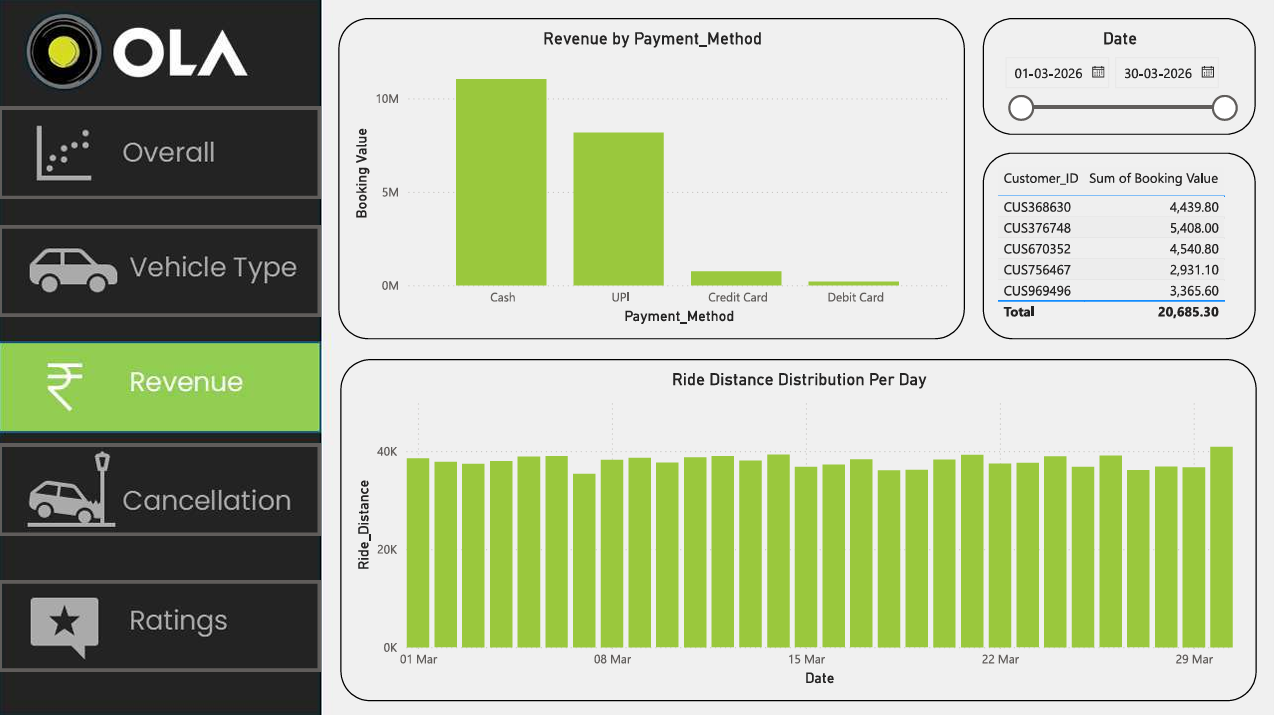

The dashboard page shown, as its layout file describes it:
{"tool":"powerbi","page":{"name":"Revenue","canvas":[1280,720],"ordinal":2},"visuals":[{"type":"actionButton","box":[0,225.6,323.3,91.7],"z":0},{"type":"actionButton","box":[0,445.2,323.3,91.7],"z":1000},{"type":"actionButton","box":[0,107.4,323.3,91.7],"z":2000},{"type":"actionButton","box":[0,581.5,323.3,91.7],"z":3000},{"type":"columnChart","title":"Revenue by Payment_Method","fields":{"Y":["Thane Ride Data.Adjusted Booking Value"],"Category":["Thane Ride Data.Payment_Method"]},"box":[341.2,17.8,629,321.9],"z":4000},{"type":"columnChart","title":"Ride Distance Distribution Per Day","fields":{"Y":["Sum(Thane Ride Data.Ride_Distance)"],"Category":["Thane Ride Data.Date"]},"box":[342.9,360,920,342.9],"z":5000},{"type":"slicer","title":"Date","fields":{"Values":["Thane Ride Data.Date"]},"box":[988,17.8,274.5,117.2],"z":6000},{"type":"tableEx","fields":{"Values":["Thane Ride Data.Customer_ID","Thane Ride Data.Adjusted Booking Value"]},"box":[988,152.8,274.5,186.9],"z":7000}]}

Visuals, with their boxes on the page's 1280x720 design canvas (x1, y1, x2, y2). These are canvas units, not pixel positions in the 1275x715 screenshot, which may show the page scaled, cropped or inside an application window:
actionButton: rect(0, 226, 323, 317)
actionButton: rect(0, 445, 323, 537)
actionButton: rect(0, 107, 323, 199)
actionButton: rect(0, 582, 323, 673)
"Revenue by Payment_Method" columnChart: rect(341, 18, 970, 340)
"Ride Distance Distribution Per Day" columnChart: rect(343, 360, 1263, 703)
"Date" slicer: rect(988, 18, 1262, 135)
tableEx - Thane Ride Data.Customer_ID x Thane Ride Data.Adjusted Booking Value: rect(988, 153, 1262, 340)
